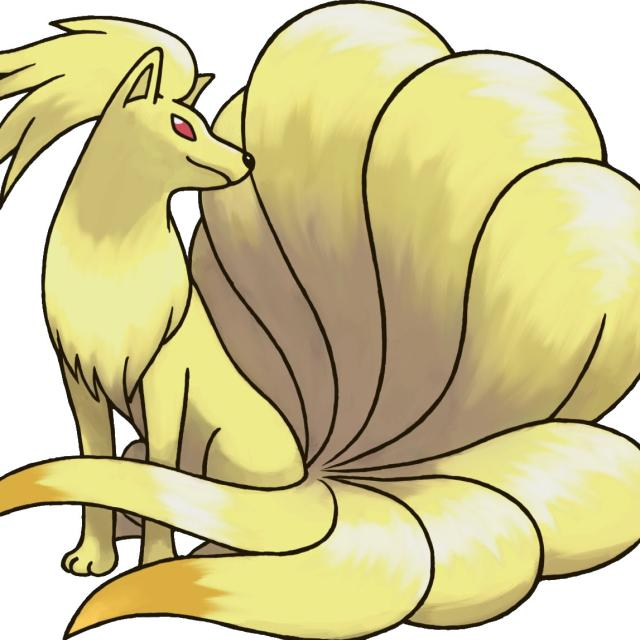Ninetales: (38, 42, 538, 576)
